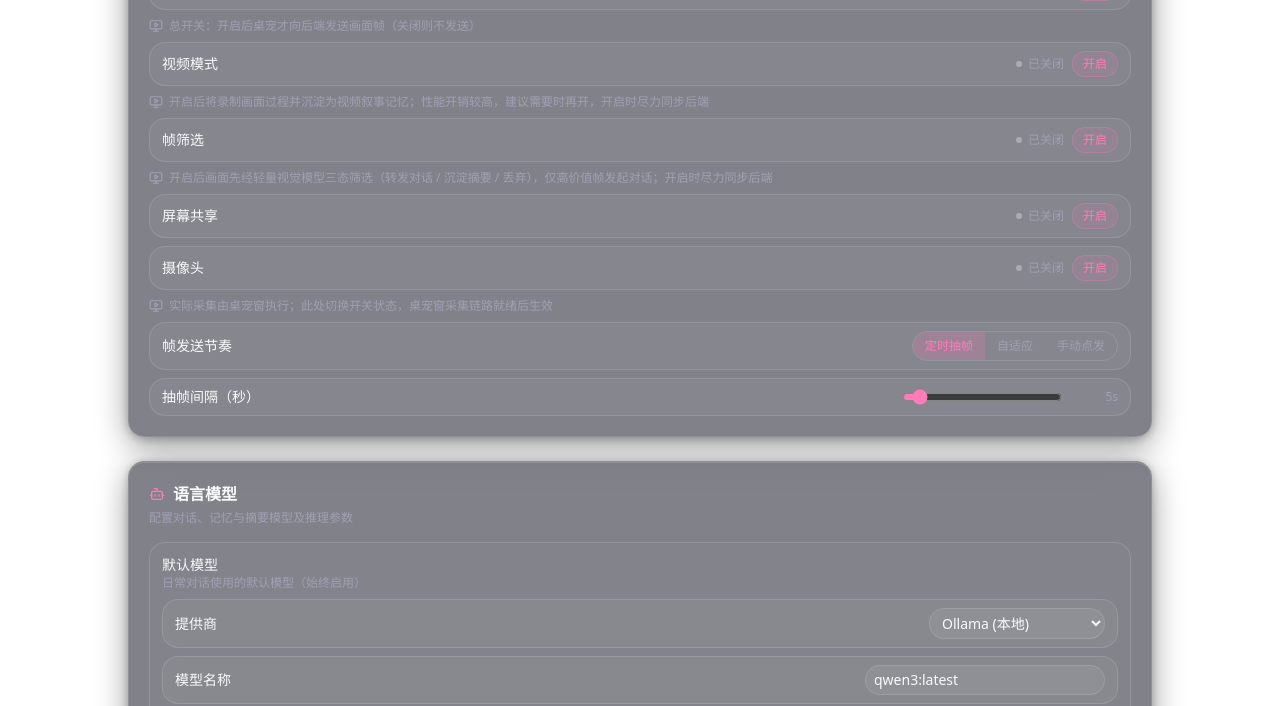
Test: SettingsPage 五区块 › 帧节奏：自适应档展示，interval/adaptive 显示滑块、manual 隐藏
(page scrolled)
Check: the slider named "抽帧间隔（秒）" is shown, box [902,389,1062,405]
Note: 切 adaptive：滑块仍显示（作为自适应基准）
Click the button "自适应". click: (1015, 346)
box: [985,332,1045,360]
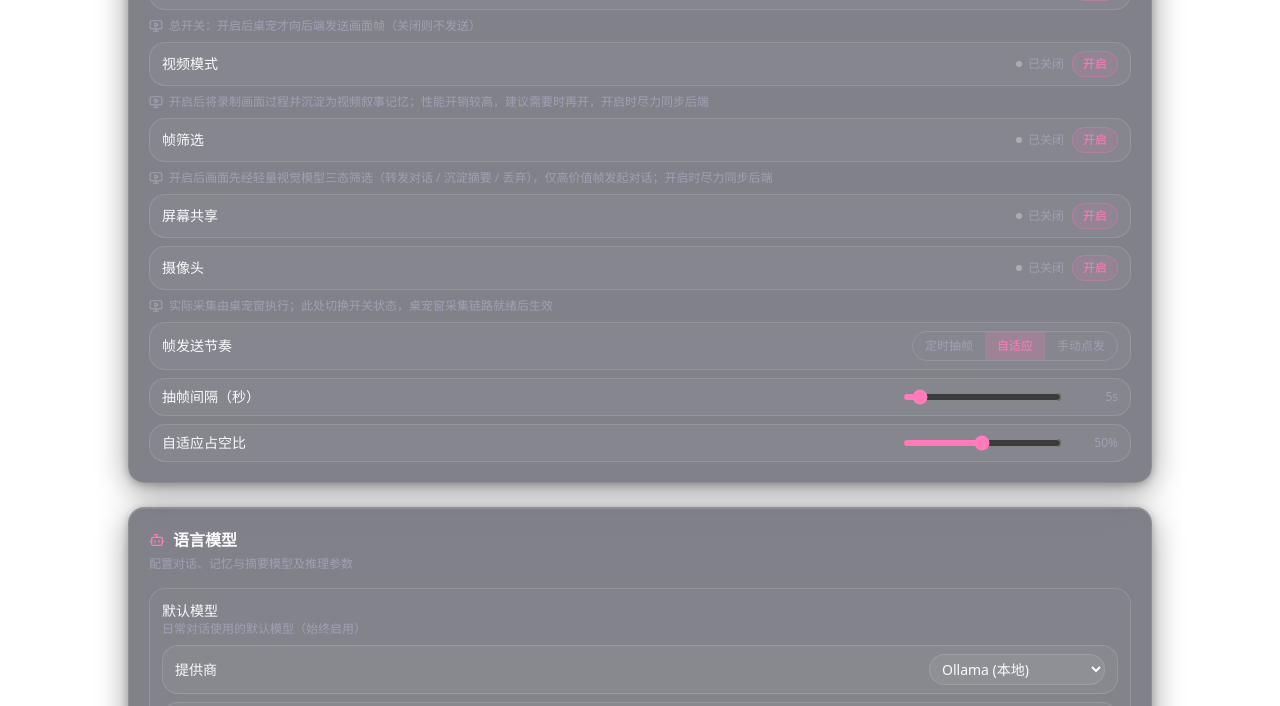
Check: the slider named "抽帧间隔（秒）" is shown, box [902,389,1062,405]
Note: 切 manual：滑块隐藏
Click the button "手动点发". click: (1081, 346)
box: [1045,332,1117,360]
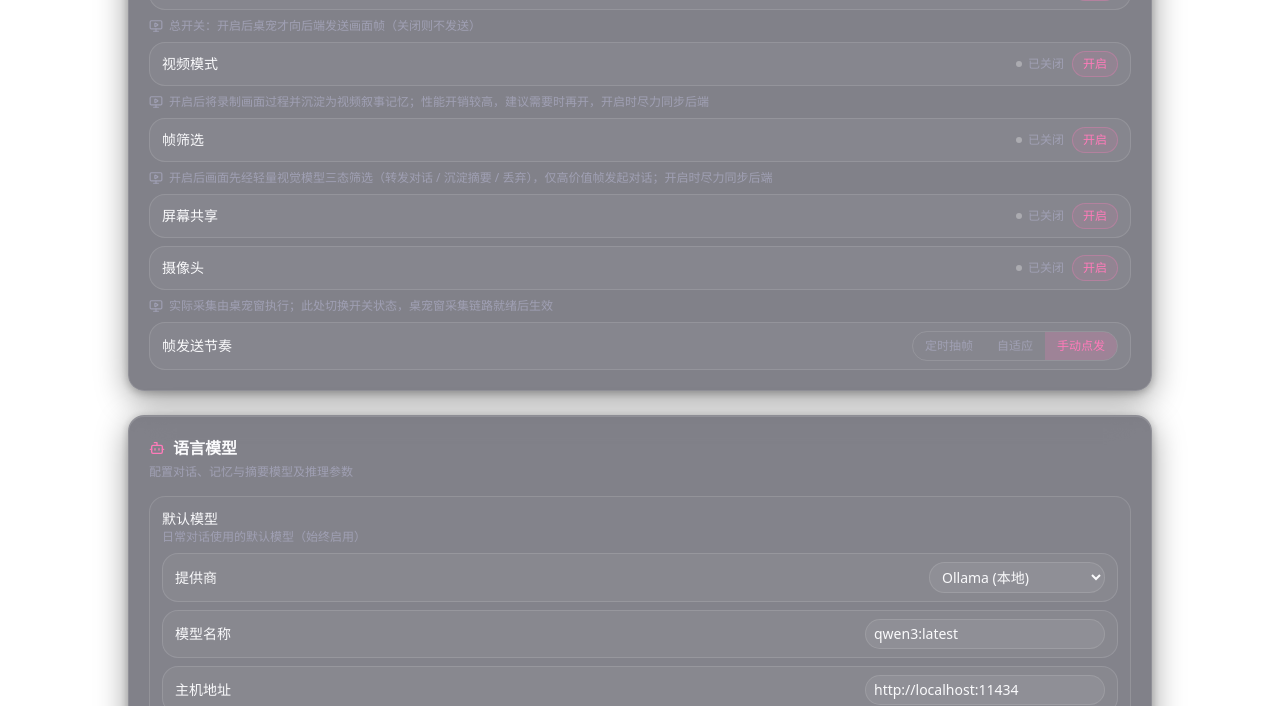
Check: the text "抽帧间隔（秒）" is gone
